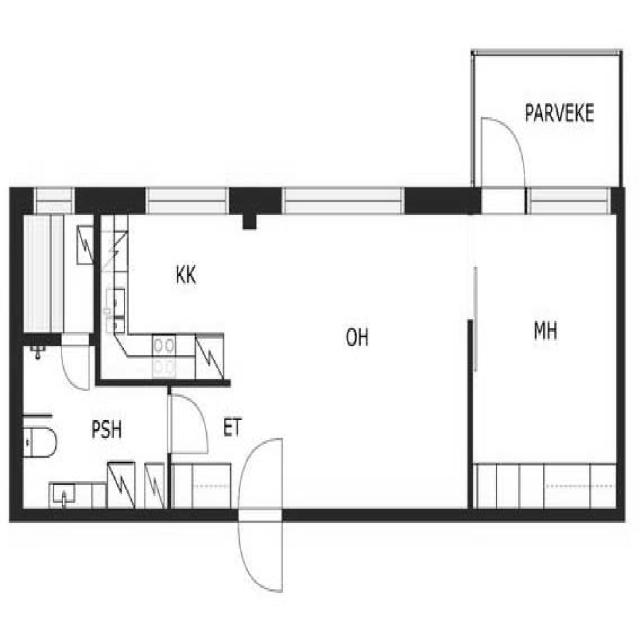door: (234, 431, 289, 602), (478, 114, 526, 222), (165, 388, 212, 464), (57, 331, 94, 396)
window: (277, 178, 409, 224), (140, 176, 238, 220), (525, 181, 616, 217), (29, 180, 82, 218)
zone: (239, 209, 469, 509), (472, 208, 622, 511), (96, 205, 258, 382), (18, 368, 176, 510), (17, 207, 97, 342)
